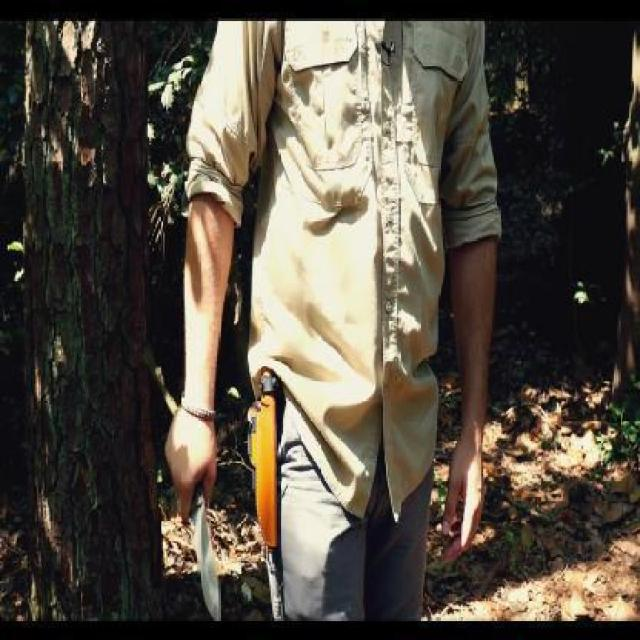knife: (168, 454, 225, 631)
